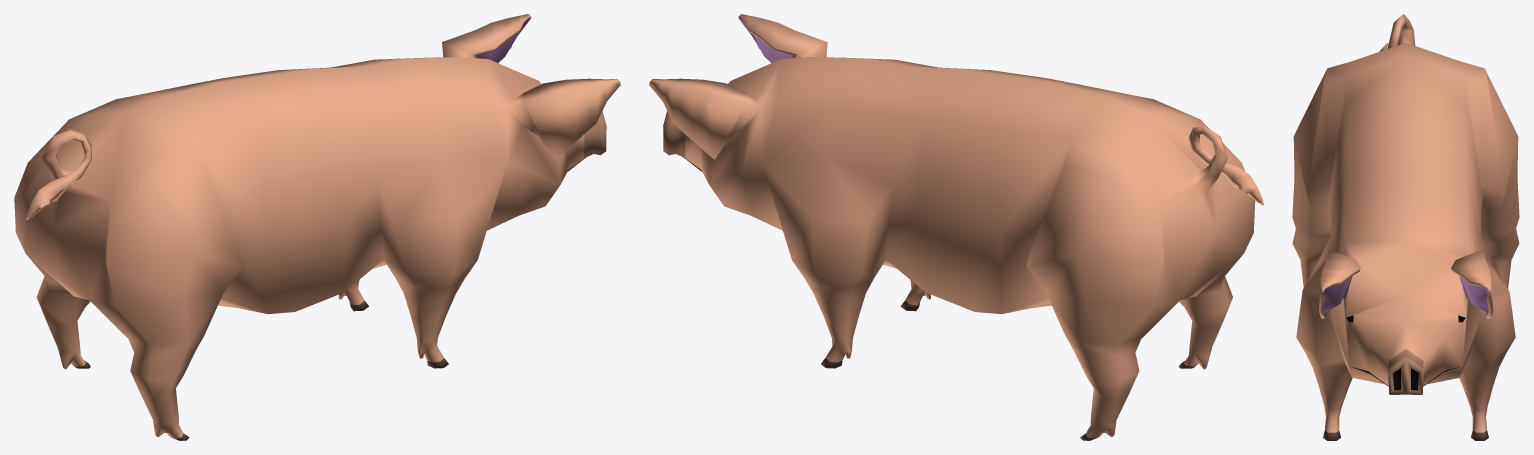
File: pig.glb
3 views of the same model, side by side, from view 1: azimuth 30°, elevation 25°; view 2: azimuth 150°, elevation 25°; view 3: azimuth 270°, elevation 25° (orthographic). The views are drawn at different scales.
Visible parts, largest first — view 1: Cube.035; view 2: Cube.035; view 3: Cube.035.
Part boxes in pixels (left/top/right/bottom): Cube.035: left=14, top=14, right=620, bottom=440; Cube.035: left=649, top=14, right=1263, bottom=440; Cube.035: left=1292, top=14, right=1519, bottom=440.
Size of the model in its own units: 0.85 by 0.4138 by 0.3063.
